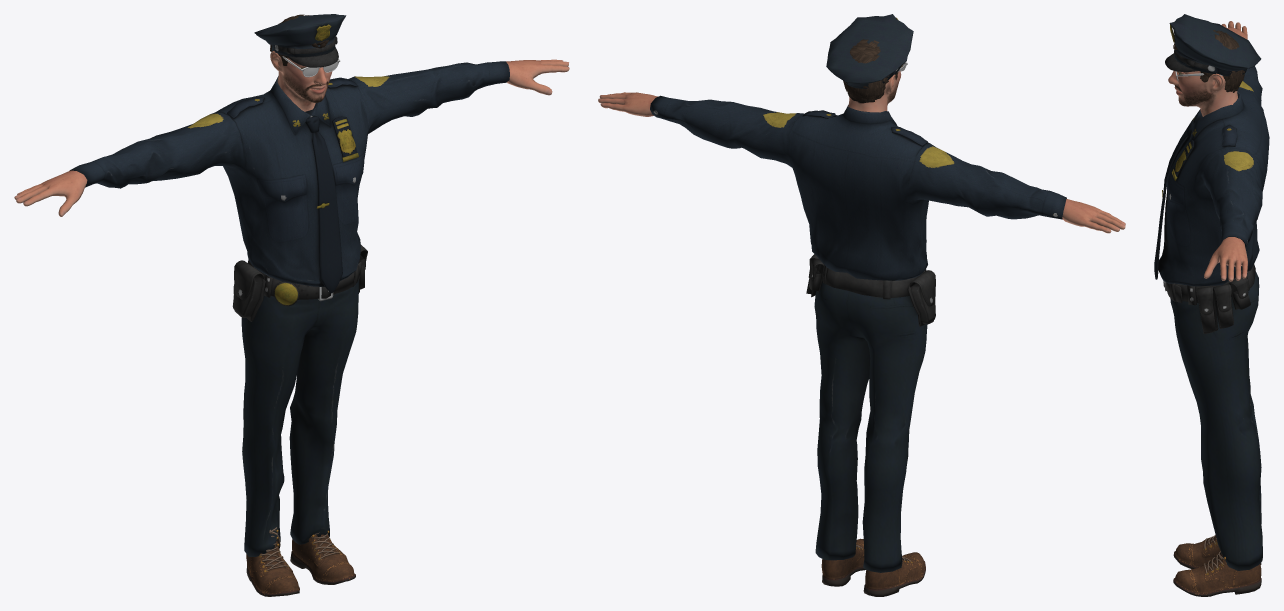
The picture shows the model from 3 angles, left to right: view 1: azimuth 30°, elevation 25°; view 2: azimuth 150°, elevation 25°; view 3: azimuth 270°, elevation 25°; orthographic projection. The views are drawn at different scales.
Parts seen in each view (by area): view 1: Tops, Bottoms, Body, Shoes, Hats; view 2: Tops, Bottoms, Hats, Body, Shoes, Hair; view 3: Bottoms, Tops, Hats, Body, Shoes, Hair.
Boxes of the visible parts, bbox=[...] form: Tops: bbox=[69, 61, 509, 293]; Bottoms: bbox=[232, 244, 367, 556]; Body: bbox=[14, 51, 569, 216]; Shoes: bbox=[246, 527, 355, 596]; Hats: bbox=[254, 14, 346, 67]; Tops: bbox=[650, 95, 1066, 280]; Bottoms: bbox=[806, 254, 935, 572]; Hats: bbox=[826, 14, 913, 88]; Body: bbox=[598, 71, 1125, 233]; Shoes: bbox=[821, 538, 925, 596]; Hair: bbox=[843, 39, 898, 103]; Bottoms: bbox=[1163, 264, 1262, 570]; Tops: bbox=[1154, 66, 1269, 286]; Hats: bbox=[1165, 14, 1261, 76]; Body: bbox=[1168, 21, 1247, 281]; Shoes: bbox=[1173, 535, 1261, 596]; Hair: bbox=[1173, 30, 1244, 92].
Bounding box in the file's own units: 190 × 188 × 35.44.
